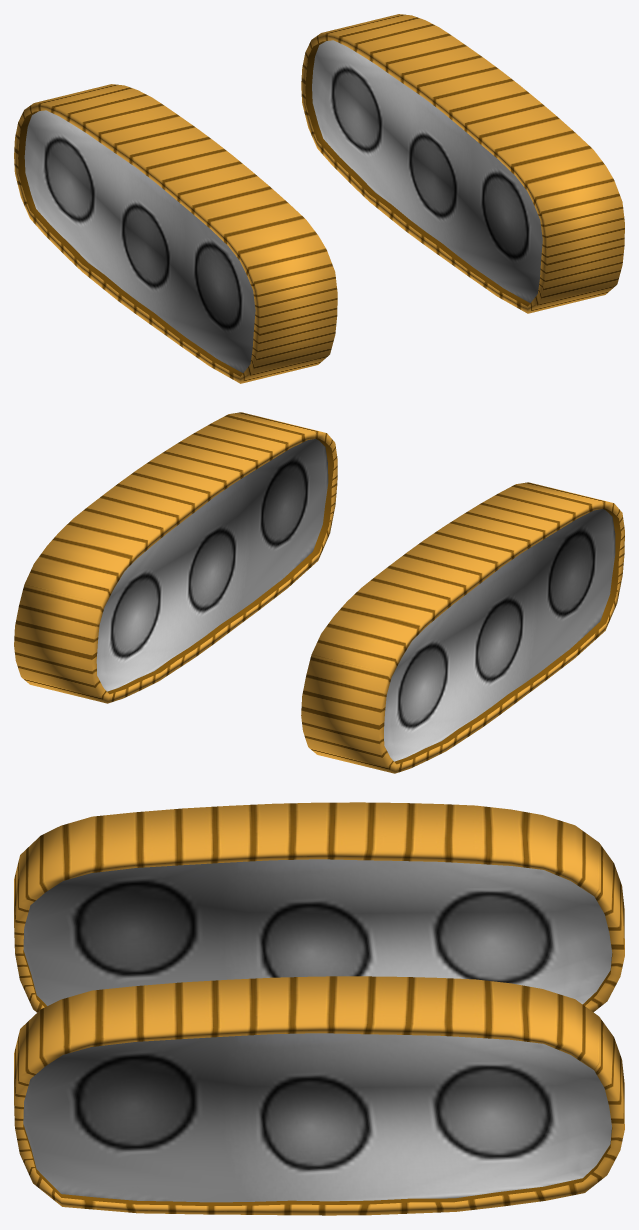
The model's file is ChenillesSeulesLarges.dae.
3 renders of one model, top to bottom at view 1: azimuth 30°, elevation 25°; view 2: azimuth 150°, elevation 25°; view 3: azimuth 270°, elevation 25°, orthographic. The views are drawn at different scales.
Parts seen in each view (by area): view 1: ChenilleG, ChenilleD; view 2: ChenilleD, ChenilleG; view 3: ChenilleG, ChenilleD.
Part boxes in pixels (x1,y1,x2,y2): ChenilleG: (301,14,624,313); ChenilleD: (14,84,337,383); ChenilleD: (301,482,624,773); ChenilleG: (14,412,337,703); ChenilleG: (14,976,624,1215); ChenilleD: (14,802,624,1012).
Bounding box in the file's own units: 2.69 × 3.13 × 1.09.
Materials: 1 (1 with a texture image).
